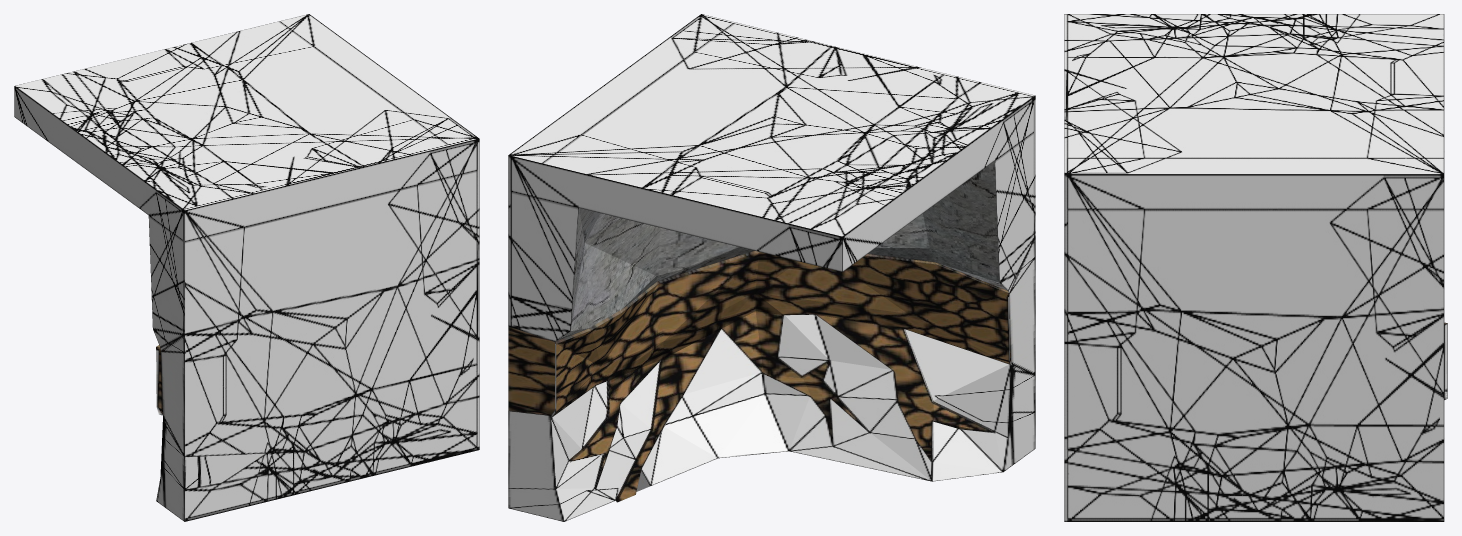
The model's file is EspacioPirateriaEsquinaCierreInteriorAltoNS.gltf.
The picture shows the model from 3 angles, left to right: view 1: azimuth 30°, elevation 25°; view 2: azimuth 150°, elevation 25°; view 3: azimuth 270°, elevation 25°; orthographic projection. The views are drawn at different scales.
Visible parts, largest first — view 1: Cubo.17; view 2: Cubo.17; view 3: Cubo.17.
Boxes of the visible parts, <box> form: Cubo.17: <box>14,14,479,521</box>; Cubo.17: <box>508,14,1035,521</box>; Cubo.17: <box>1064,14,1447,521</box>.
Size of the model in its own units: 2 by 2 by 2.
Materials: 1 (1 with a texture image).
